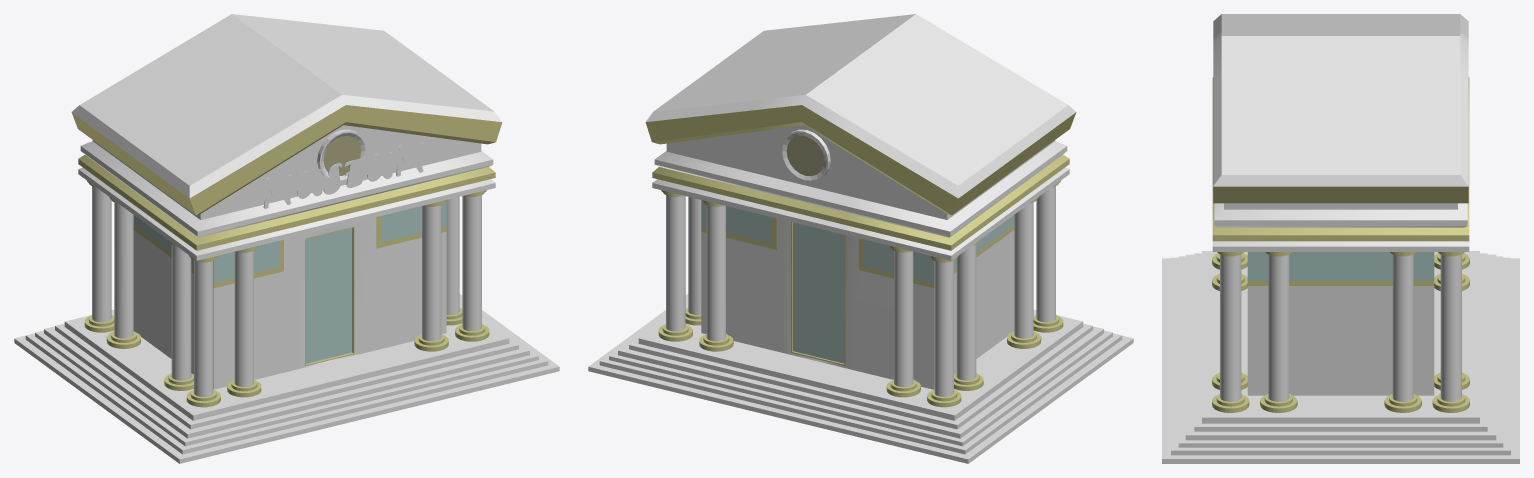
Rendered from Museum.fbx.
The picture shows the model from 3 angles, left to right: view 1: azimuth 30°, elevation 25°; view 2: azimuth 150°, elevation 25°; view 3: azimuth 270°, elevation 25°; orthographic projection. The views are drawn at different scales.
Visible parts, largest first — view 1: B_Inside, B_Support, MUSEUM, Symbol; view 2: B_Inside, B_Support, Symbol; view 3: B_Inside, B_Support.
Boxes of the visible parts, x1,y1,x2,y2 form: B_Inside: (14, 14, 559, 463); B_Support: (84, 181, 489, 407); MUSEUM: (263, 142, 424, 208); Symbol: (317, 129, 367, 181); B_Inside: (588, 14, 1133, 463); B_Support: (658, 181, 1063, 407); Symbol: (780, 129, 830, 182); B_Inside: (1162, 14, 1519, 463); B_Support: (1212, 252, 1469, 412).
Size of the model in its own units: 1153 by 877 by 869.
